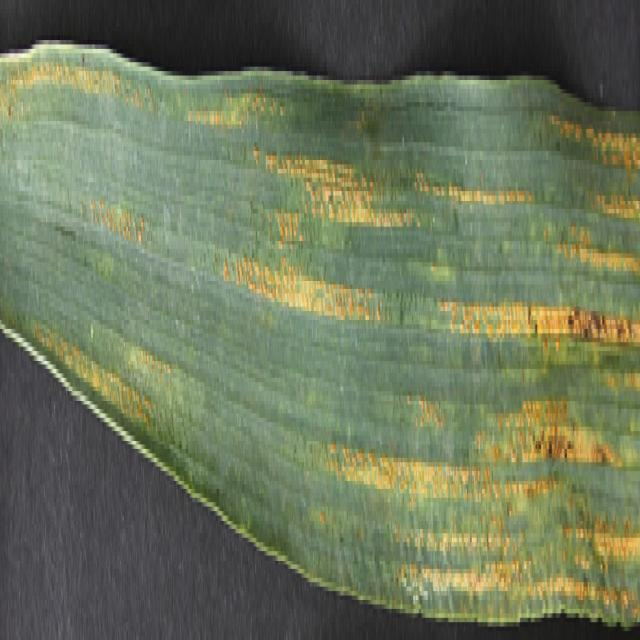leaf rust: (198, 98, 640, 613), (1, 13, 147, 254)
